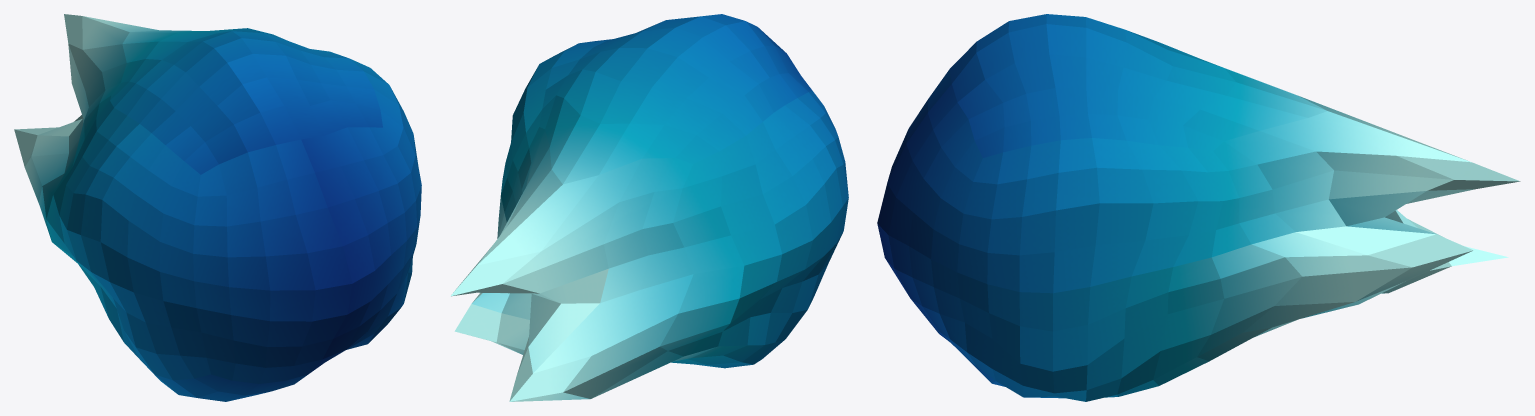
The model's file is Bola de fuego Grande.fbx.
The picture shows the model from 3 angles, left to right: view 1: azimuth 30°, elevation 25°; view 2: azimuth 150°, elevation 25°; view 3: azimuth 270°, elevation 25°; orthographic projection. The views are drawn at different scales.
Parts seen in each view (by area): view 1: Quadsphere; view 2: Quadsphere; view 3: Quadsphere.
Part boxes in pixels (x1=…): Quadsphere: x1=14, y1=14, x2=421, y2=401; Quadsphere: x1=450, y1=14, x2=848, y2=401; Quadsphere: x1=877, y1=14, x2=1520, y2=401.
Size of the model in its own units: 45.57 by 47.25 by 76.44.
